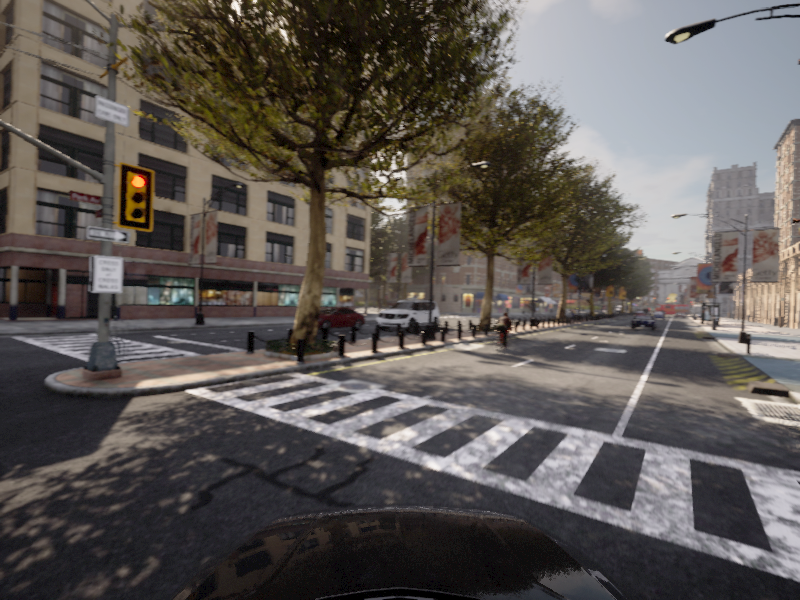vehicle: (372, 298, 444, 334), (295, 305, 370, 332), (489, 312, 517, 353), (630, 314, 656, 330)
